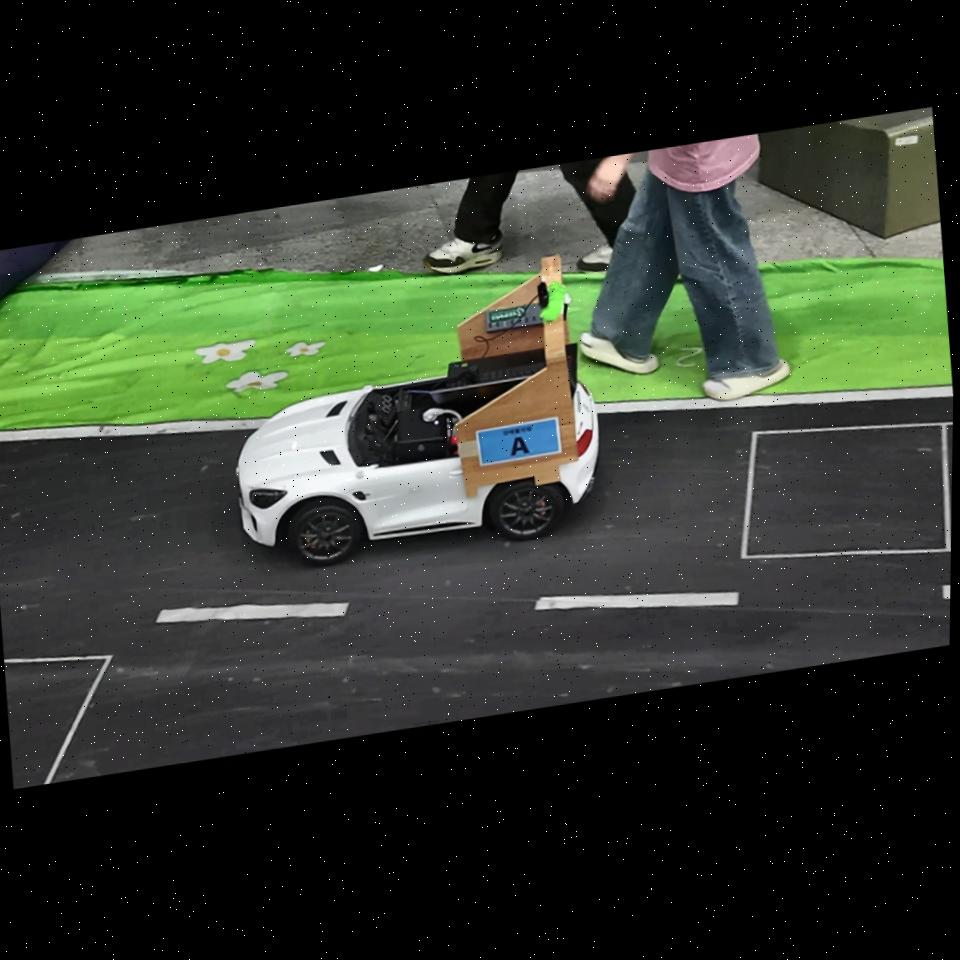broken_line: (535, 592, 739, 611), (157, 603, 349, 623), (942, 584, 950, 599)
